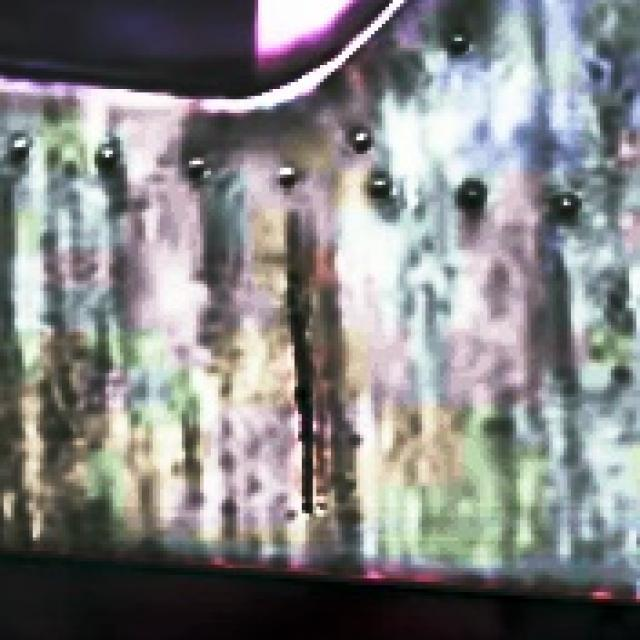crack: (278, 210, 358, 542)
